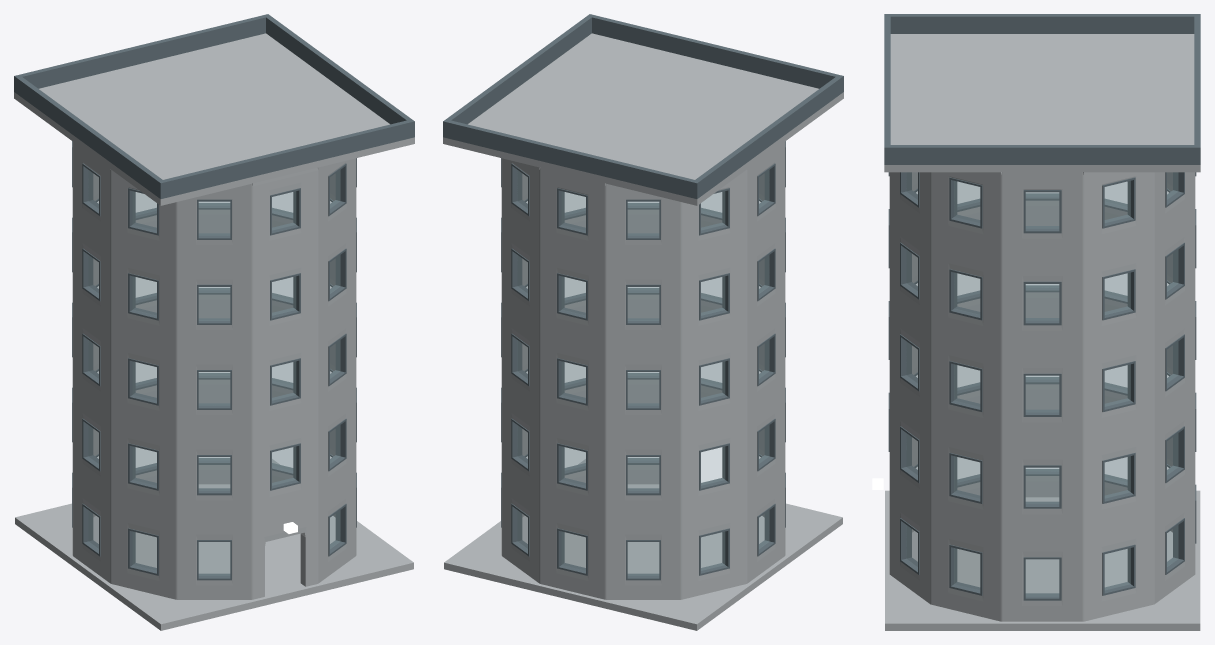
Rendered from tower_5_lod0.glb.
3 renders of one model, left to right at view 1: azimuth 30°, elevation 25°; view 2: azimuth 150°, elevation 25°; view 3: azimuth 270°, elevation 25°, orthographic. The views are drawn at different scales.
Visible parts, largest first — view 1: Ceiling baked, Wall_11 baked, Wall_0 baked, Wall_10 baked, Floor baked, Wall_9 baked, Wall_1 baked, Parapet baked, Parapet.002 baked, Wall_5 baked, Parapet.001 baked, Parapet.003 baked (+18 smaller); view 2: Ceiling baked, Wall_7 baked, Wall_6 baked, Wall_8 baked, Wall_9 baked, Wall_5 baked, Floor baked, Parapet.002 baked, Parapet baked, Wall_1 baked, Parapet.001 baked, Parapet.003 baked (+18 smaller); view 3: Ceiling baked, Wall_3 baked, Wall_4 baked, Wall_2 baked, Wall_1 baked, Wall_5 baked, Floor baked, Parapet.001 baked, Parapet.003 baked, Wall_9 baked, Glazing.014 baked, Glazing.016 baked (+19 smaller).
Part boxes in pixels (x1,y1,x2,y2): Ceiling baked: (14,33,414,205); Wall_11 baked: (176,183,252,599); Wall_0 baked: (252,167,317,599); Wall_10 baked: (111,170,176,599); Floor baked: (15,459,413,630); Wall_9 baked: (73,142,110,583); Wall_1 baked: (318,158,355,583); Parapet baked: (158,119,414,198); Parapet.002 baked: (14,14,270,93); Wall_5 baked: (198,209,230,484); Parapet.001 baked: (17,77,162,196); Parapet.003 baked: (266,16,411,124); Ceiling baked: (443,33,843,205); Wall_7 baked: (605,183,681,599); Wall_6 baked: (540,167,605,599); Wall_8 baked: (681,170,746,599); Wall_9 baked: (747,142,784,583); Wall_5 baked: (502,158,539,583); Floor baked: (444,459,842,630); Parapet.002 baked: (443,119,699,198); Parapet baked: (587,14,843,93); Wall_1 baked: (627,209,659,484); Parapet.001 baked: (695,77,840,196); Parapet.003 baked: (446,16,591,124); Ceiling baked: (884,34,1200,172); Wall_3 baked: (1001,172,1083,621); Wall_4 baked: (1083,172,1154,621); Wall_2 baked: (930,172,1001,621); Wall_1 baked: (889,172,930,604); Wall_5 baked: (1154,172,1195,604); Floor baked: (885,490,1200,630); Parapet.001 baked: (890,14,1194,33); Parapet.003 baked: (890,145,1194,164); Wall_9 baked: (1025,200,1059,497); Glazing.014 baked: (1026,559,1058,595); Glazing.016 baked: (1026,376,1058,412).
Size of the model in its own units: 10 by 16.85 by 10.38.
